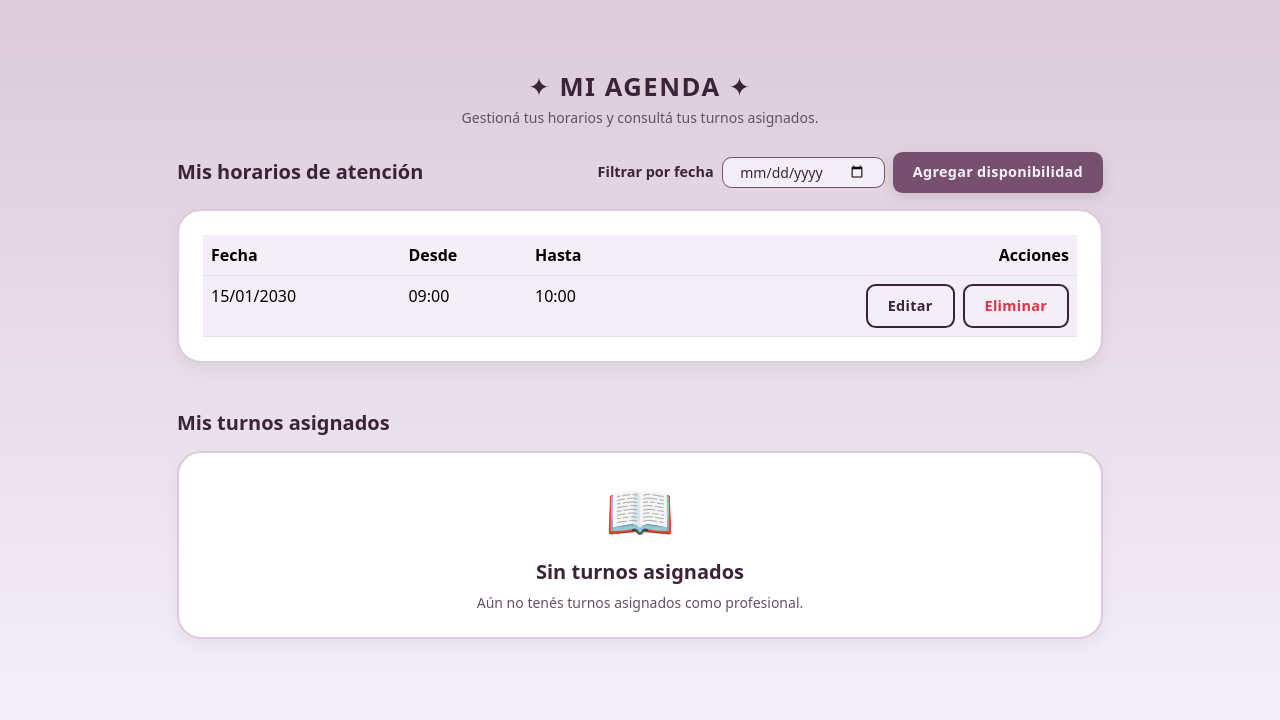
Scenario: MiAgenda — gestión de disponibilidades › muestra el error del backend al eliminar una franja con turnos
Expected: the text "15/01/2030" is shown, [203, 275, 400, 337]
Click the button "Eliminar".
click(1016, 306)  # box [962, 284, 1069, 328]
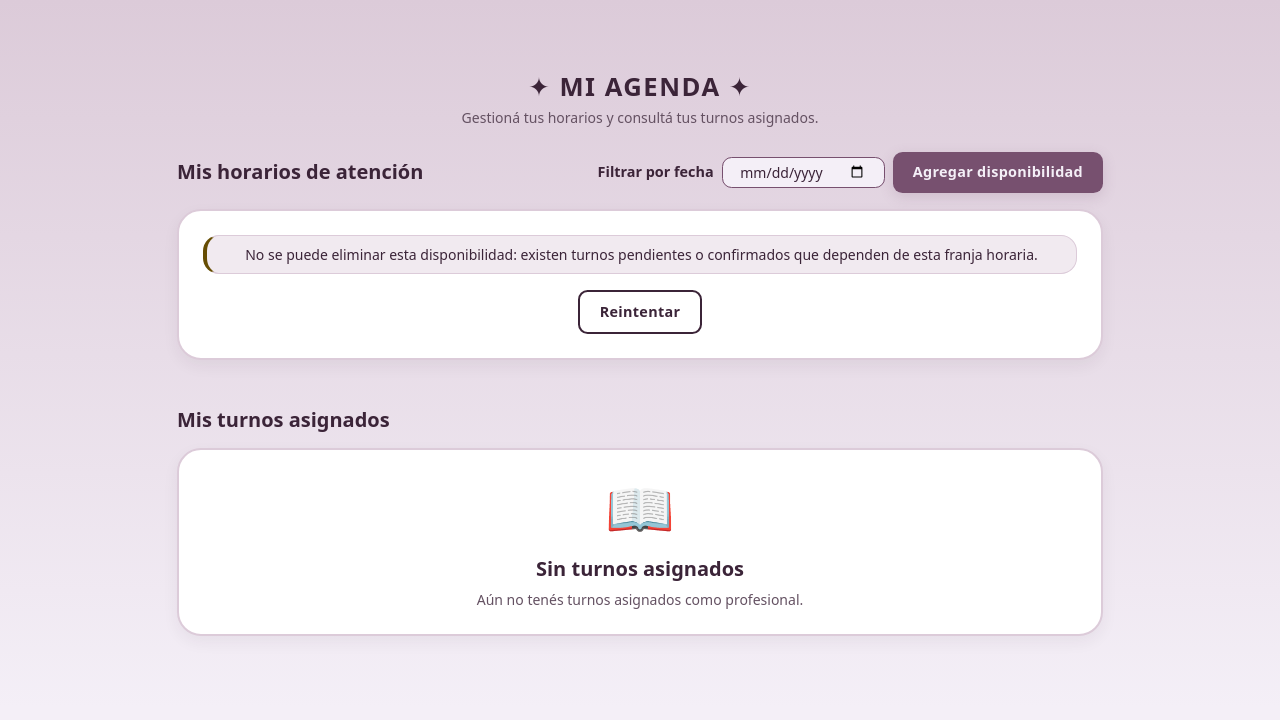
Expected: the text "existen turnos pendientes o confirmados" is shown, [245, 244, 1038, 264]
Expected: the button "Reintentar" is shown, [578, 290, 702, 334]
